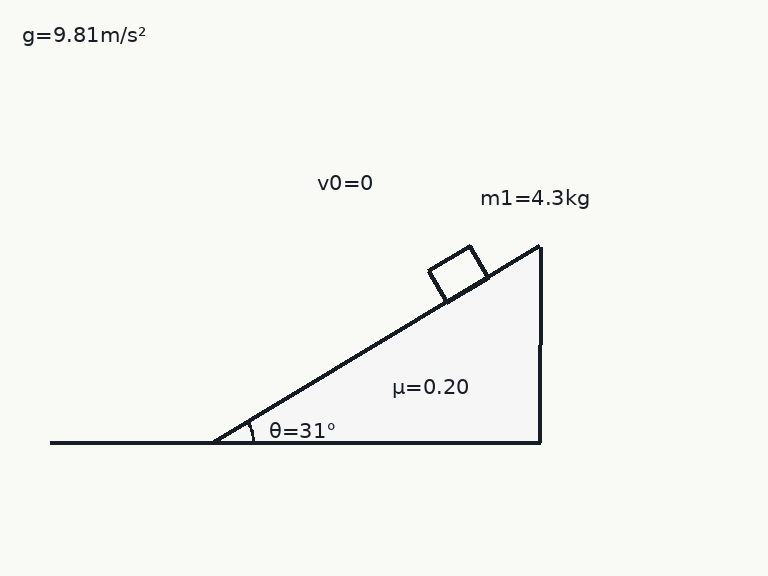block: (426, 244, 490, 304)
ramp: (211, 244, 542, 444)
